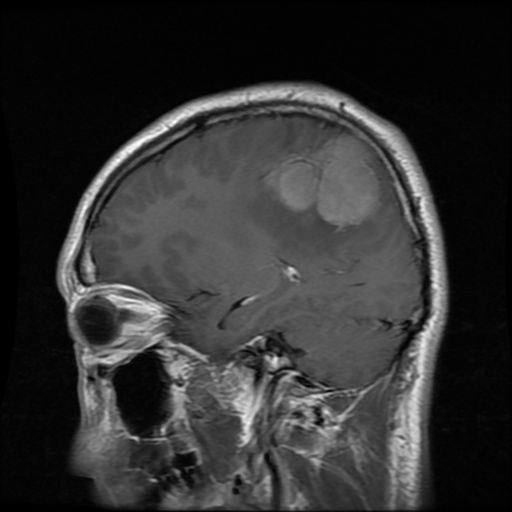meningioma: (266, 134, 383, 229)
